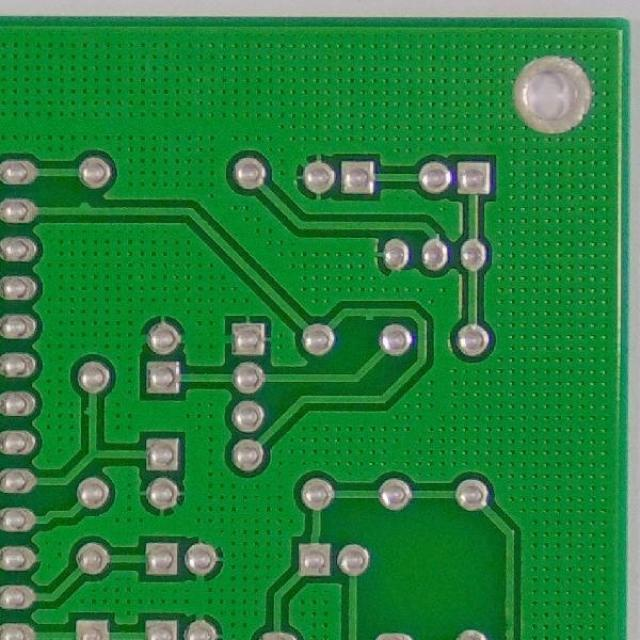Spur: (76, 198, 98, 221), (360, 304, 380, 324), (82, 400, 102, 420)
